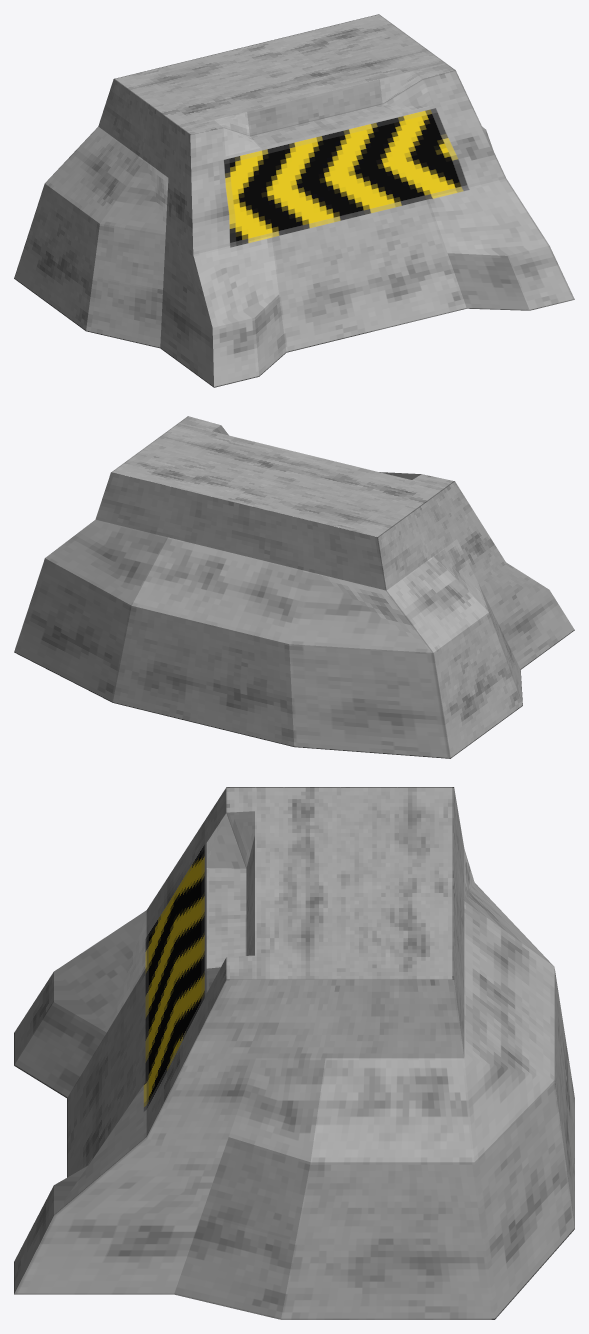
The model's file is concrete_block.fbx.
3 renders of one model, top to bottom at view 1: azimuth 30°, elevation 25°; view 2: azimuth 150°, elevation 25°; view 3: azimuth 270°, elevation 25°, orthographic. The views are drawn at different scales.
Visible parts, largest first — view 1: Cube; view 2: Cube; view 3: Cube.
Boxes of the visible parts, box(x1,y1,x2,y2) form: Cube: box(14, 14, 574, 387); Cube: box(14, 416, 574, 758); Cube: box(14, 787, 574, 1319).
Size of the model in its own units: 481 by 200 by 363.
1 material, 1 textured.
